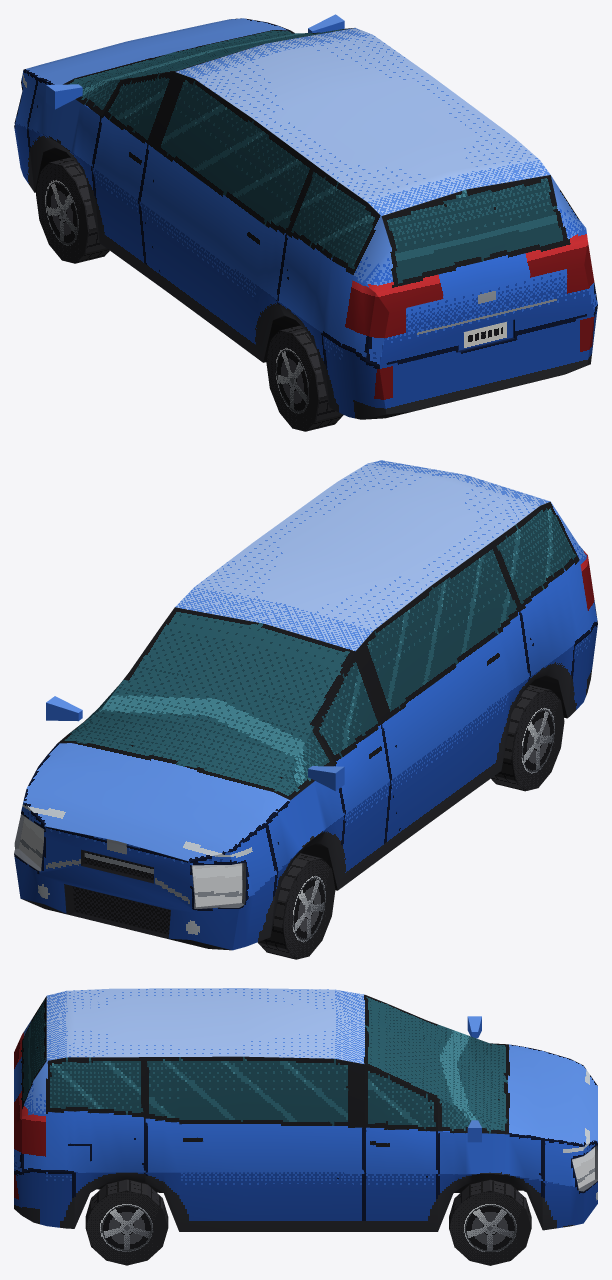
File: xpander_2020.glb
3 renders of one model, top to bottom at view 1: azimuth 30°, elevation 25°; view 2: azimuth 150°, elevation 25°; view 3: azimuth 270°, elevation 25°, orthographic. The views are drawn at different scales.
Visible parts, largest first — view 1: body, door_RL, tailgate, bumper_R, door_FL, hood, wheel_RL, wheel_FL, fender_FL, bumper_F, mirror_L; view 2: body, door_RL, bumper_F, hood, door_FL, wheel_FL, wheel_RL, fender_FL, headlight_L, bumper_R, headlight_R, mirror_L (+1 smaller); view 3: body, door_RR, door_FR, hood, fender_FR, wheel_RR, wheel_FR, bumper_F, bumper_R, tailgate, headlight_R.
Part boxes in pixels (left/top/right/bottom): body: left=34, top=28, right=587, bottom=405; door_RL: left=139, top=72, right=314, bottom=362; tailgate: left=365, top=175, right=597, bottom=366; bumper_R: left=322, top=305, right=597, bottom=419; door_FL: left=92, top=72, right=174, bottom=276; hood: left=24, top=18, right=289, bottom=84; wheel_RL: left=266, top=325, right=343, bottom=431; wheel_FL: left=36, top=157, right=109, bottom=263; fender_FL: left=27, top=78, right=101, bottom=242; bumper_F: left=14, top=69, right=38, bottom=192; mirror_L: left=46, top=84, right=82, bottom=109; body: left=58, top=460, right=597, bottom=890; door_RL: left=355, top=541, right=530, bottom=856; bumper_F: left=14, top=802, right=277, bottom=950; hood: left=23, top=743, right=290, bottom=861; door_FL: left=314, top=652, right=390, bottom=890; wheel_FL: left=257, top=853, right=335, bottom=959; wheel_RL: left=491, top=685, right=564, bottom=791; fender_FL: left=267, top=764, right=344, bottom=935; headlight_L: left=191, top=862, right=245, bottom=908; bumper_R: left=564, top=624, right=597, bottom=717; headlight_R: left=14, top=814, right=44, bottom=871; mirror_L: left=308, top=766, right=344, bottom=791; body: left=22, top=988, right=522, bottom=1227; door_RR: left=145, top=1056, right=364, bottom=1231; door_FR: left=365, top=1064, right=437, bottom=1231; hood: left=508, top=1044, right=597, bottom=1144; fender_FR: left=438, top=1131, right=542, bottom=1231; wheel_RR: left=85, top=1179, right=168, bottom=1265; wheel_FR: left=449, top=1179, right=531, bottom=1265; bumper_F: left=542, top=1139, right=597, bottom=1230; bumper_R: left=14, top=1169, right=74, bottom=1228; tailgate: left=14, top=996, right=46, bottom=1172; headlight_R: left=572, top=1145, right=597, bottom=1191.
Bounding box in the file's own units: 2.02 × 1.69 × 4.46.
Materials: 2 (2 with a texture image).
